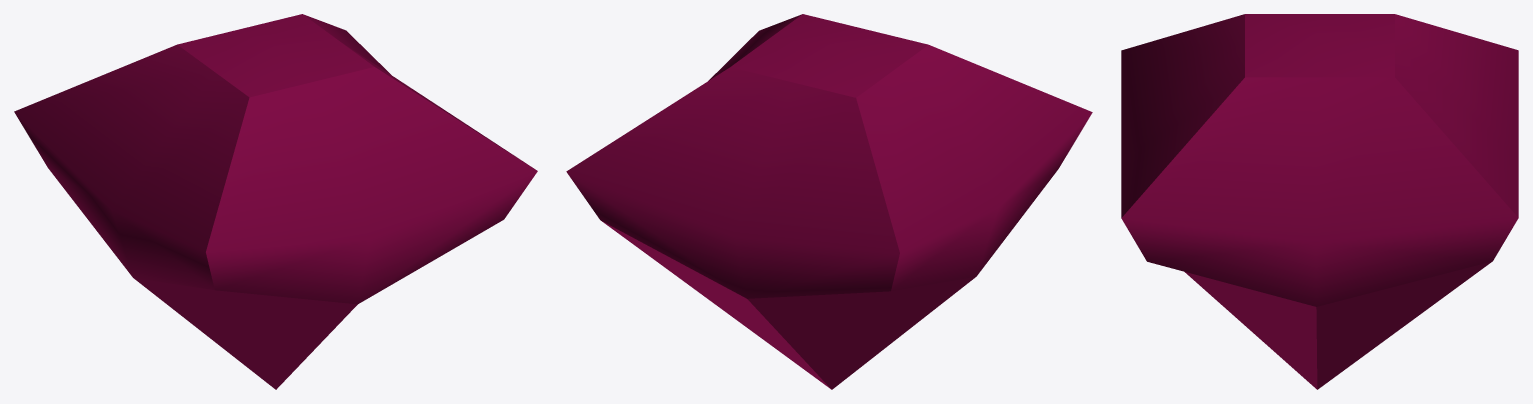
File: gem.fbx
3 renders of one model, left to right at view 1: azimuth 30°, elevation 25°; view 2: azimuth 150°, elevation 25°; view 3: azimuth 270°, elevation 25°, orthographic. The views are drawn at different scales.
Visible parts, largest first — view 1: pCube1; view 2: pCube1; view 3: pCube1.
Part boxes in pixels (x1,y1,x2,y2): pCube1: [14, 14, 537, 389]; pCube1: [566, 14, 1092, 389]; pCube1: [1121, 14, 1518, 389].
Bounding box in the file's own units: 1.69 × 1.67 × 1.69.
